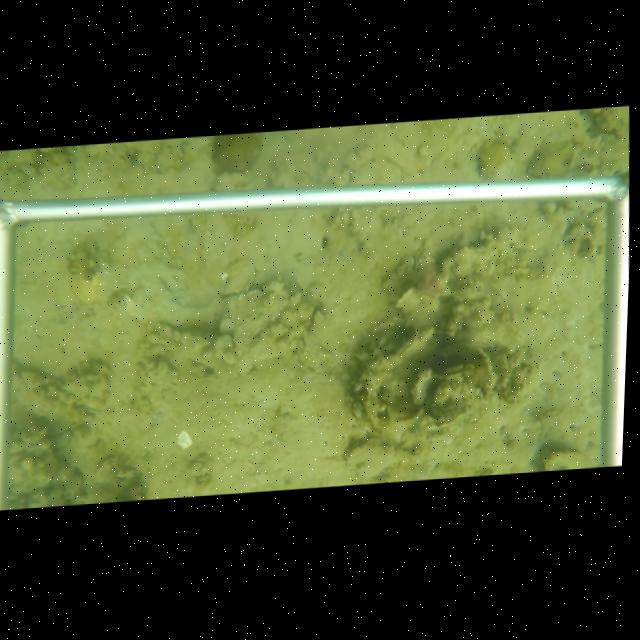Oyster-Closed: (395, 326, 435, 359)
Oyster-Indeterminate: (344, 157, 408, 183), (539, 447, 589, 470)
